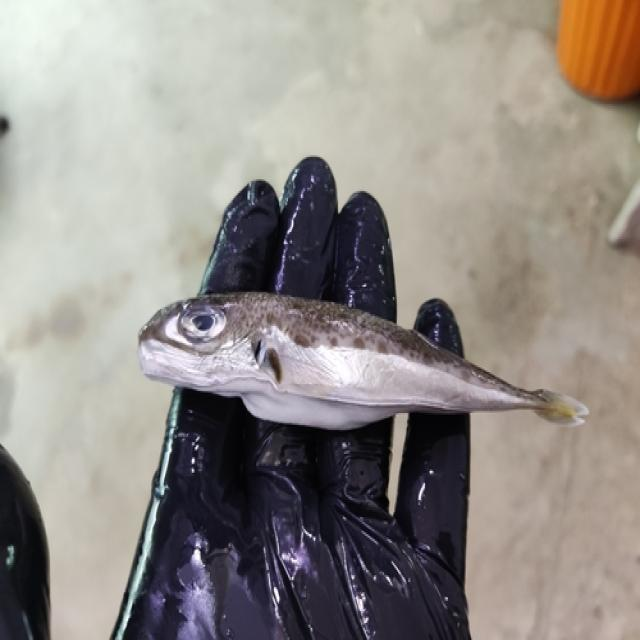Balik: (139, 292, 587, 430)
